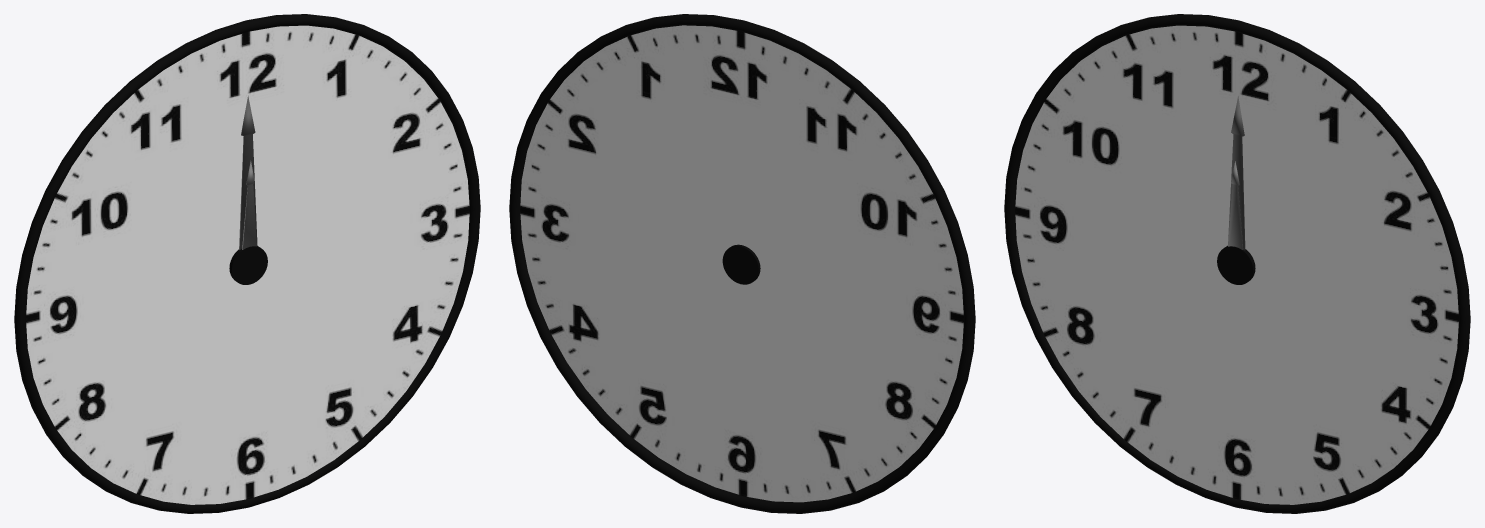
File: cock.fbx
3 renders of one model, left to right at view 1: azimuth 30°, elevation 25°; view 2: azimuth 150°, elevation 25°; view 3: azimuth 330°, elevation 25°, orthographic.
Parts seen in each view (by area): view 1: Circle, Torus.001, Cube, Cylinder.001, Cube.001; view 2: Circle, Torus.001, Cylinder.001; view 3: Circle, Torus.001, Cylinder.001, Cube, Cube.001.
Part boxes in pixels (x1,y1,x2,y2): Circle: (26, 25, 469, 504); Torus.001: (14, 14, 480, 513); Cube: (239, 95, 257, 249); Cylinder.001: (229, 246, 267, 284); Cube.001: (242, 160, 256, 249); Circle: (520, 25, 963, 502); Torus.001: (509, 14, 975, 513); Cylinder.001: (722, 244, 760, 284); Circle: (1015, 25, 1458, 504); Torus.001: (1004, 14, 1470, 513); Cylinder.001: (1217, 245, 1255, 284); Cube: (1228, 96, 1245, 250); Cube.001: (1228, 161, 1243, 249).
Size of the model in its own units: 202 by 202 by 4.4.
4 materials, 1 textured.
